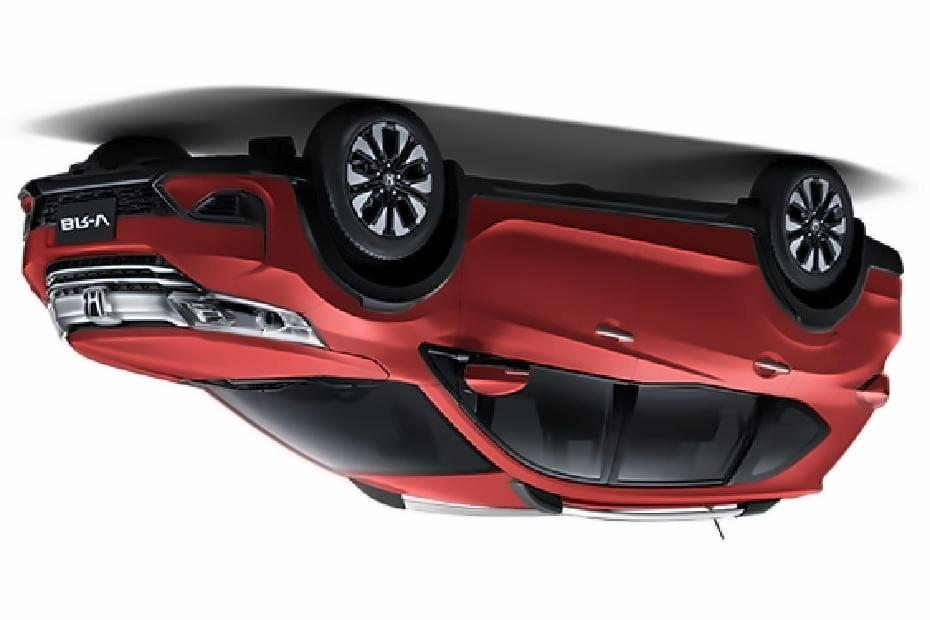Car hood: (59, 314, 396, 391)
Driver-s door - -F-R-: (462, 183, 638, 508)
Fender - -F-R-: (293, 170, 483, 365)
Fender - -R-R-: (806, 272, 908, 444)
Front bumper: (9, 150, 322, 291)
Headlight - -R-: (159, 279, 328, 354)
Passenger-s door - -R-R-: (640, 197, 804, 512)
Rear bumper: (844, 220, 910, 306)
Rear light - -R-: (844, 354, 897, 417)
Side bumper - -R-: (447, 164, 783, 266)
Side mirror - -R-: (447, 342, 536, 409)
